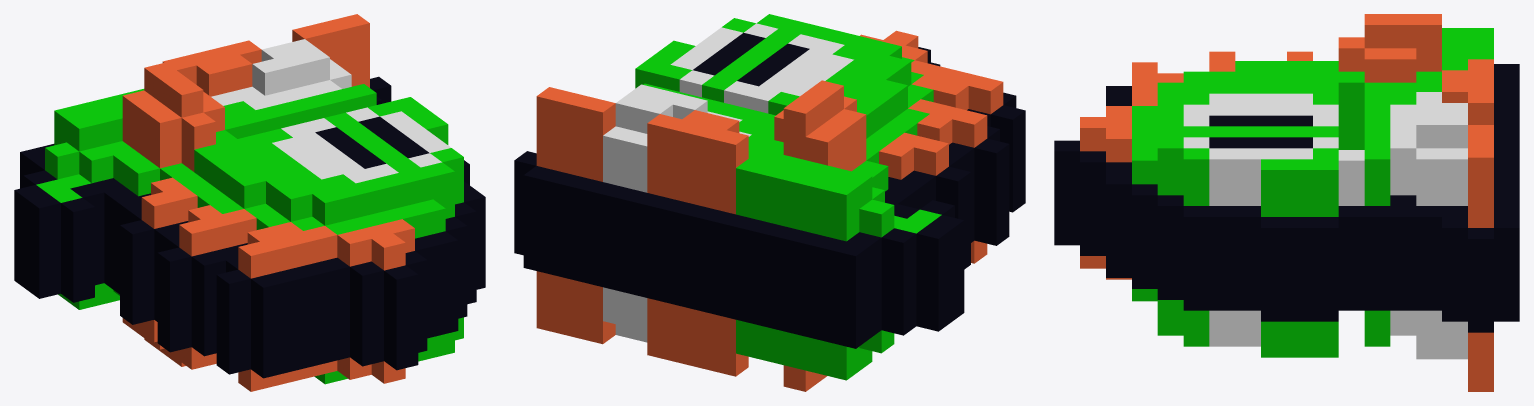
File: dino-idle.obj
3 views of the same model, side by side, from view 1: azimuth 30°, elevation 25°; view 2: azimuth 150°, elevation 25°; view 3: azimuth 270°, elevation 25° (orthographic). The views are drawn at different scales.
Bounding box in the file's own units: 1.8 × 1.2 × 1.8.
Materials: 1 (1 with a texture image).
